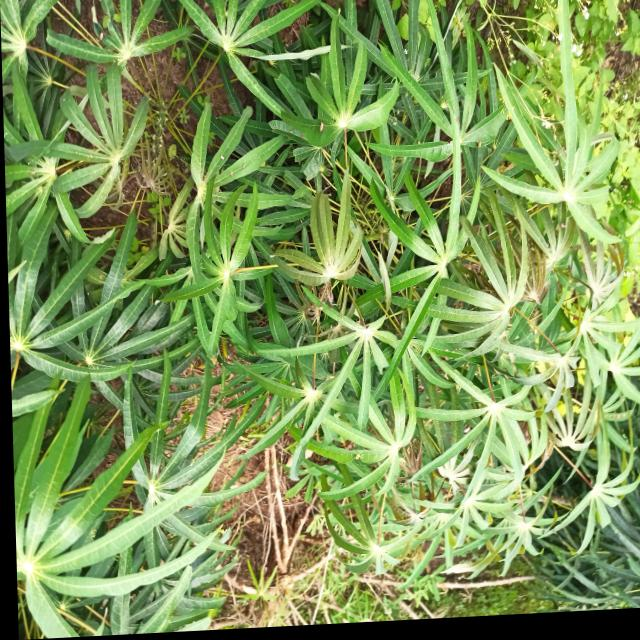Mosca: (214, 152, 231, 165), (318, 122, 329, 137), (473, 138, 482, 151)
